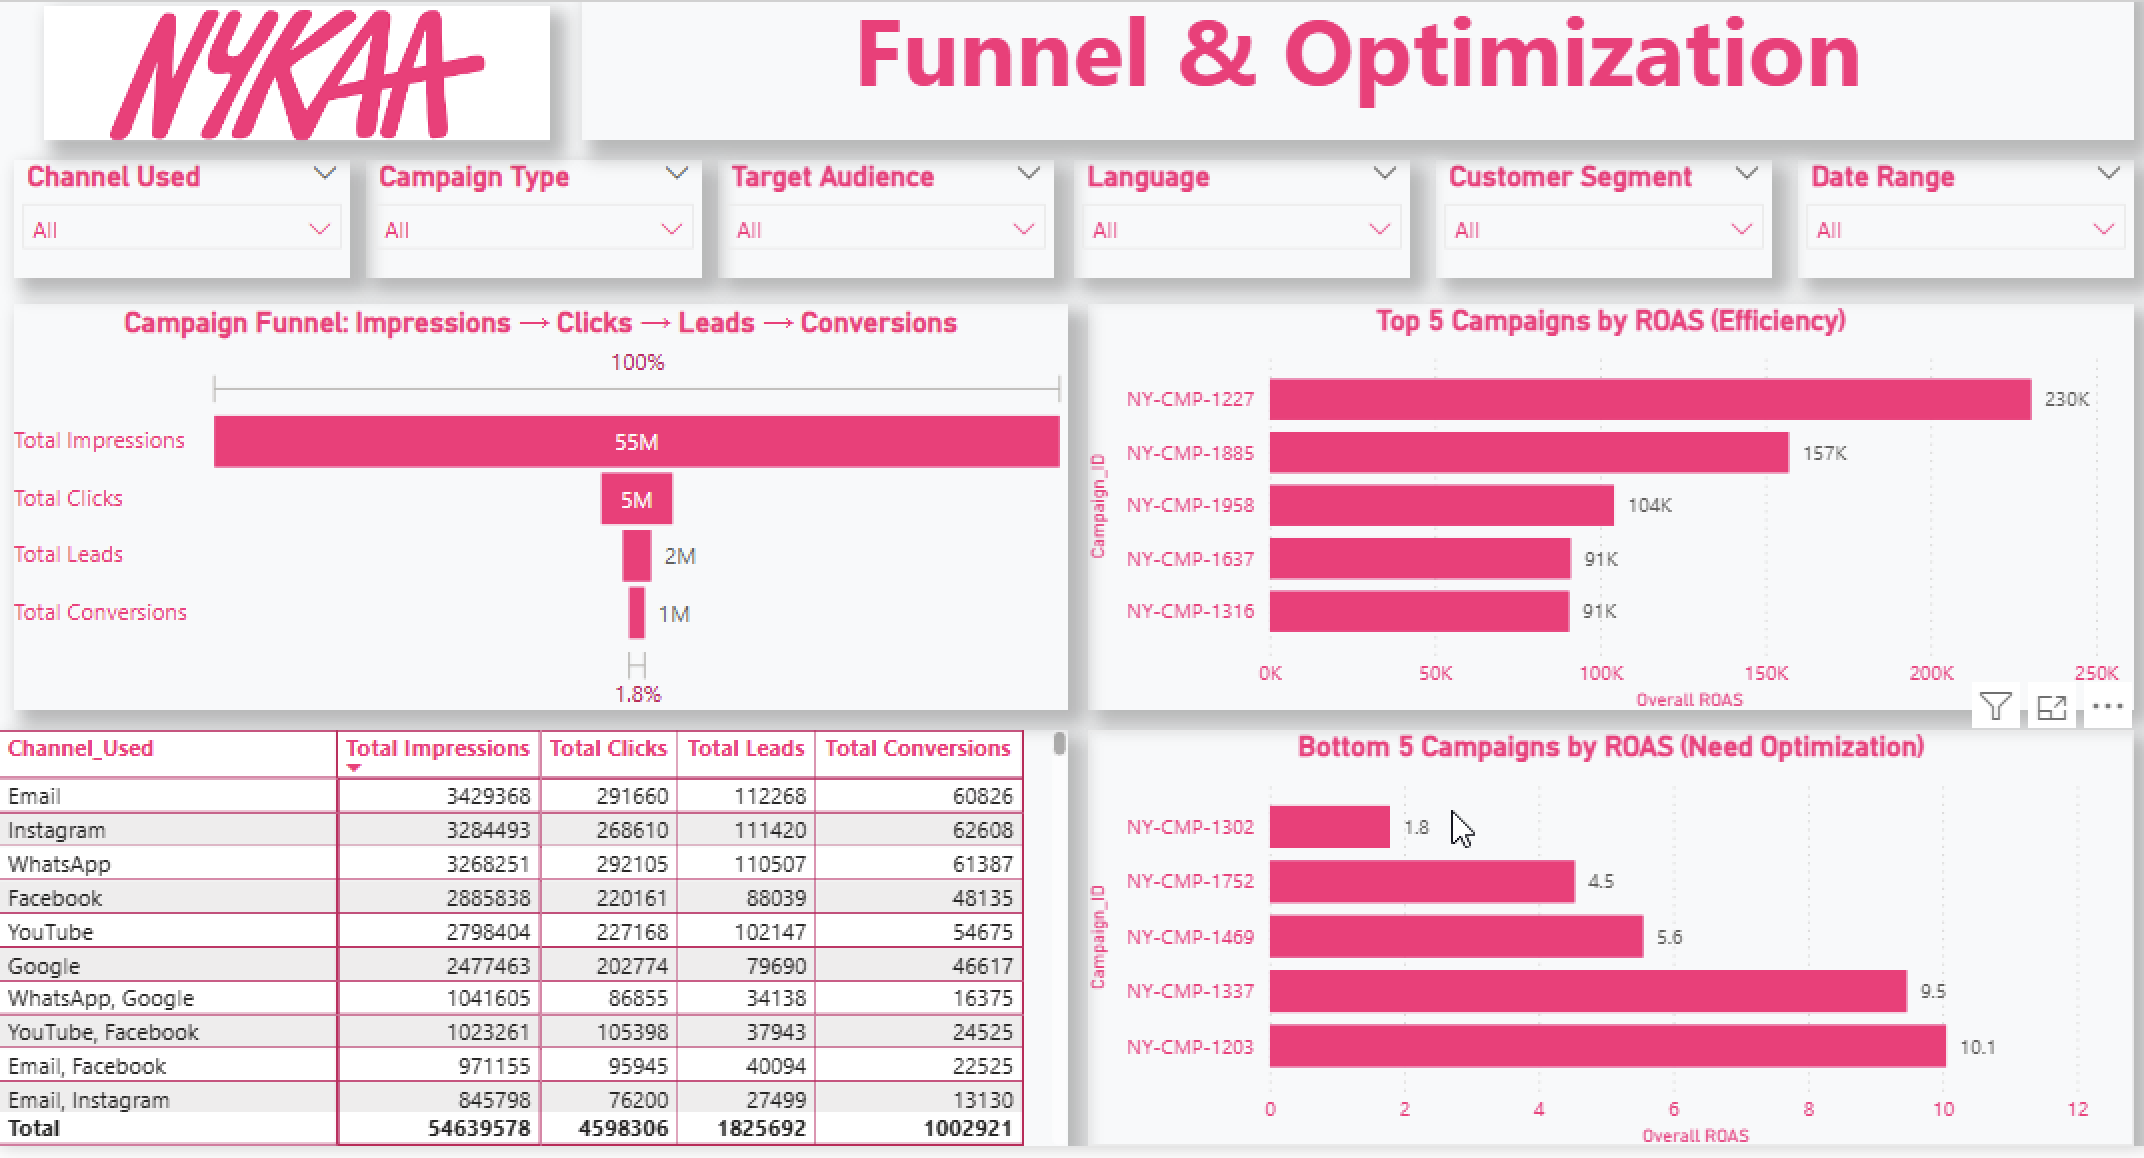

What the dashboard file says about the page in this screenshot:
{"tool":"powerbi","page":{"name":"Funnel & Optimization","canvas":[1280,720],"ordinal":1},"visuals":[{"type":"funnel","title":"Campaign Funnel: Impressions → Clicks → Leads → Conversions","fields":{"Y":["Calculated Measures.Total Impressions","Calculated Measures.Total Clicks","Calculated Measures.Total Leads","Calculated Measures.Total Conversions"]},"box":[9.5,218.9,626.9,241.5],"z":0},{"type":"pivotTable","fields":{"Rows":["vw_nykaa_campaign_metrics.Channel_Used"],"Values":["Calculated Measures.Total Impressions","Calculated Measures.Total Clicks","Calculated Measures.Total Leads","Calculated Measures.Total Conversions"]},"box":[0,472.3,636.4,247.4],"z":1000},{"type":"barChart","title":"Top 5 Campaigns by ROAS (Efficiency)","fields":{"Y":["Calculated Measures.Overall ROAS"],"Category":["vw_nykaa_campaign_metrics.Campaign_ID"]},"box":[648.3,218.9,622.2,241.5],"z":2000},{"type":"barChart","title":"Bottom 5 Campaigns by ROAS (Need Optimization)","fields":{"Y":["Calculated Measures.Overall ROAS"],"Category":["vw_nykaa_campaign_metrics.Campaign_ID"]},"box":[648.3,472.3,622.2,247.4],"z":3000},{"type":"slicer","fields":{"Values":["vw_nykaa_campaign_metrics.Channel_Used"]},"box":[9.5,133.2,199.9,70.2],"z":4000},{"type":"slicer","fields":{"Values":["vw_nykaa_campaign_metrics.Campaign_Type"]},"box":[218.9,133.2,199.9,70.2],"z":5000},{"type":"slicer","fields":{"Values":["vw_nykaa_campaign_metrics.Target_Audience"]},"box":[428.3,133.2,199.9,70.2],"z":6000},{"type":"slicer","fields":{"Values":["vw_nykaa_campaign_metrics.Language"]},"box":[640,133.2,199.9,70.2],"z":7000},{"type":"slicer","fields":{"Values":["vw_nykaa_campaign_metrics.Customer_Segment"]},"box":[855.3,133.2,199.9,70.2],"z":8000},{"type":"slicer","fields":{"Values":["vw_nykaa_campaign_metrics.campaign_start_date"]},"box":[1070.6,133.2,199.9,70.2],"z":9000},{"type":"textbox","box":[347.4,29.7,923.1,91.6],"z":10000},{"type":"image","box":[27,30,301,91],"z":10001}]}

Visuals, with their boxes on the page's 1280x720 design canvas (x1, y1, x2, y2). These are canvas units, not pixel positions in the 2144x1158 screenshot, which may show the page scaled, cropped or inside an application window:
"Campaign Funnel: Impressions → Clicks → Leads → Conversions" funnel: detection(10, 219, 636, 460)
pivotTable - vw_nykaa_campaign_metrics.Channel_Used x Calculated Measures.Total Impressions: detection(0, 472, 636, 720)
"Top 5 Campaigns by ROAS (Efficiency)" barChart: detection(648, 219, 1270, 460)
"Bottom 5 Campaigns by ROAS (Need Optimization)" barChart: detection(648, 472, 1270, 720)
slicer - vw_nykaa_campaign_metrics.Channel_Used: detection(10, 133, 209, 203)
slicer - vw_nykaa_campaign_metrics.Campaign_Type: detection(219, 133, 419, 203)
slicer - vw_nykaa_campaign_metrics.Target_Audience: detection(428, 133, 628, 203)
slicer - vw_nykaa_campaign_metrics.Language: detection(640, 133, 840, 203)
slicer - vw_nykaa_campaign_metrics.Customer_Segment: detection(855, 133, 1055, 203)
slicer - vw_nykaa_campaign_metrics.campaign_start_date: detection(1071, 133, 1270, 203)
textbox: detection(347, 30, 1270, 121)
image: detection(27, 30, 328, 121)
